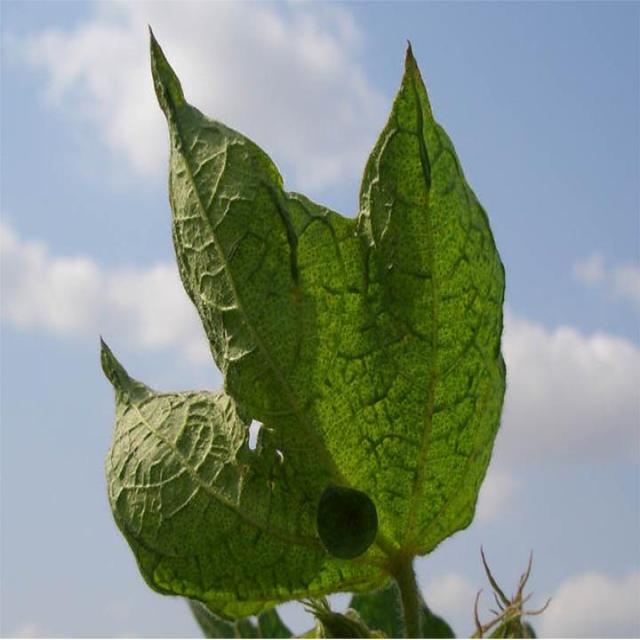Leaf Curl Virus: (204, 134, 489, 559)
